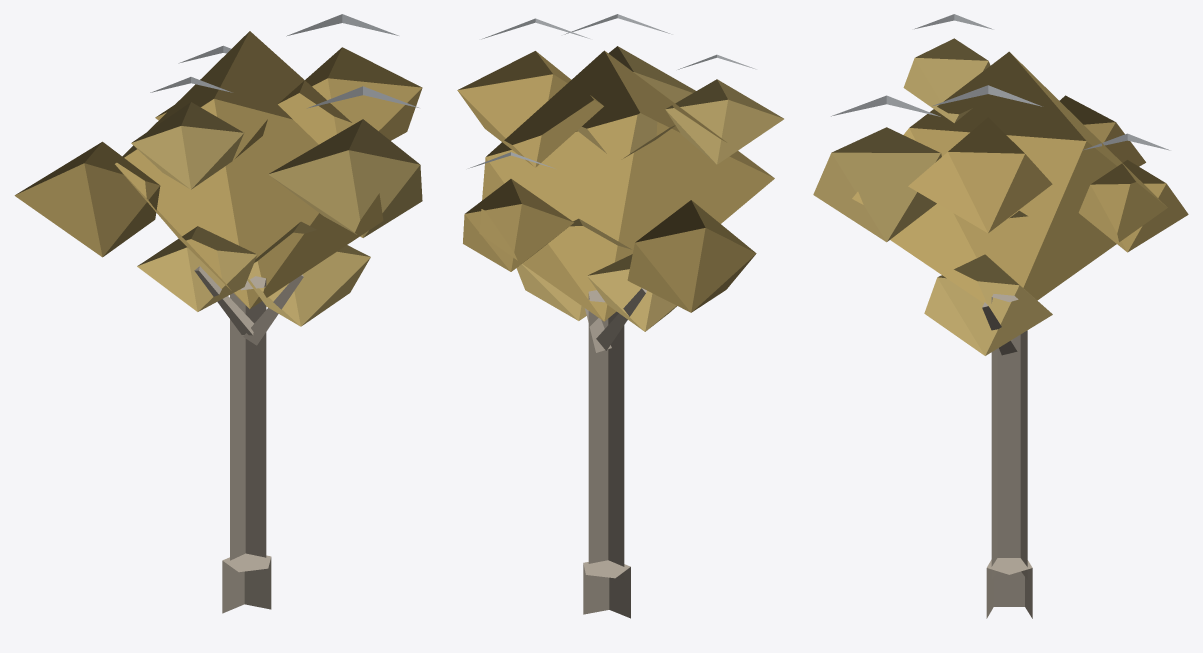
File: tree.cold.birch__autumn.glb
The picture shows the model from 3 angles, left to right: view 1: azimuth 30°, elevation 25°; view 2: azimuth 150°, elevation 25°; view 3: azimuth 270°, elevation 25°; orthographic projection. The views are drawn at different scales.
Parts seen in each view (by area): view 1: tree.cold.birch__autumn; view 2: tree.cold.birch__autumn; view 3: tree.cold.birch__autumn.
Boxes of the visible parts, left/top/right/bottom form: tree.cold.birch__autumn: left=14, top=14, right=422, bottom=613; tree.cold.birch__autumn: left=457, top=14, right=783, bottom=618; tree.cold.birch__autumn: left=813, top=14, right=1188, bottom=618.
Size of the model in its own units: 6.03 by 9.92 by 5.93.
